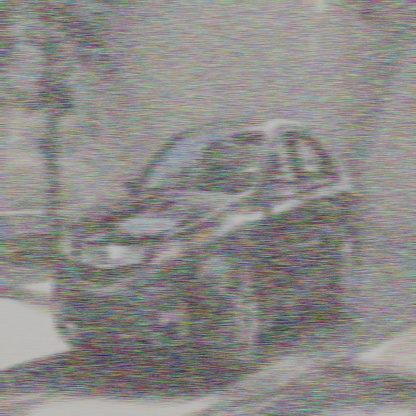Vehicle: (53, 116, 366, 380)
